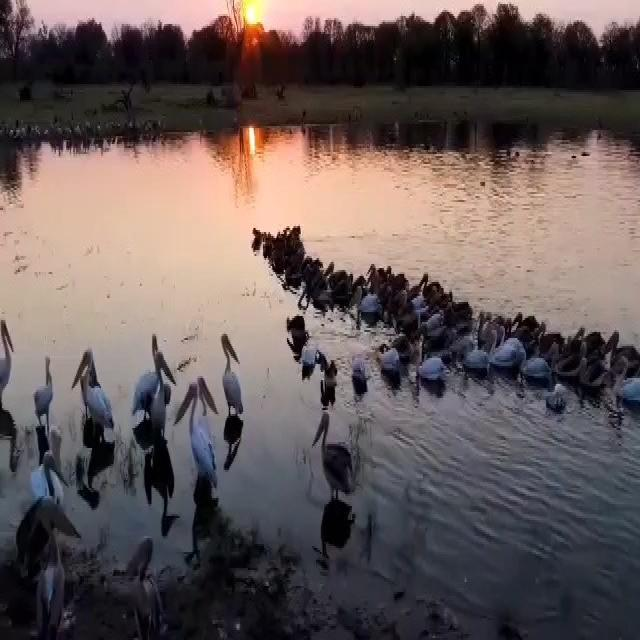Swan: (28, 441, 70, 629), (177, 374, 218, 508), (110, 536, 168, 630), (73, 342, 119, 452), (312, 408, 358, 507), (217, 335, 254, 423), (133, 332, 160, 429), (148, 354, 172, 455), (31, 355, 60, 430), (608, 326, 640, 384), (461, 329, 493, 383), (525, 346, 558, 396), (307, 342, 342, 388), (417, 276, 454, 319), (563, 348, 597, 394), (369, 349, 406, 388), (488, 329, 516, 380), (416, 343, 450, 383), (353, 282, 385, 324), (0, 316, 12, 420), (288, 302, 311, 353), (342, 360, 376, 394)
